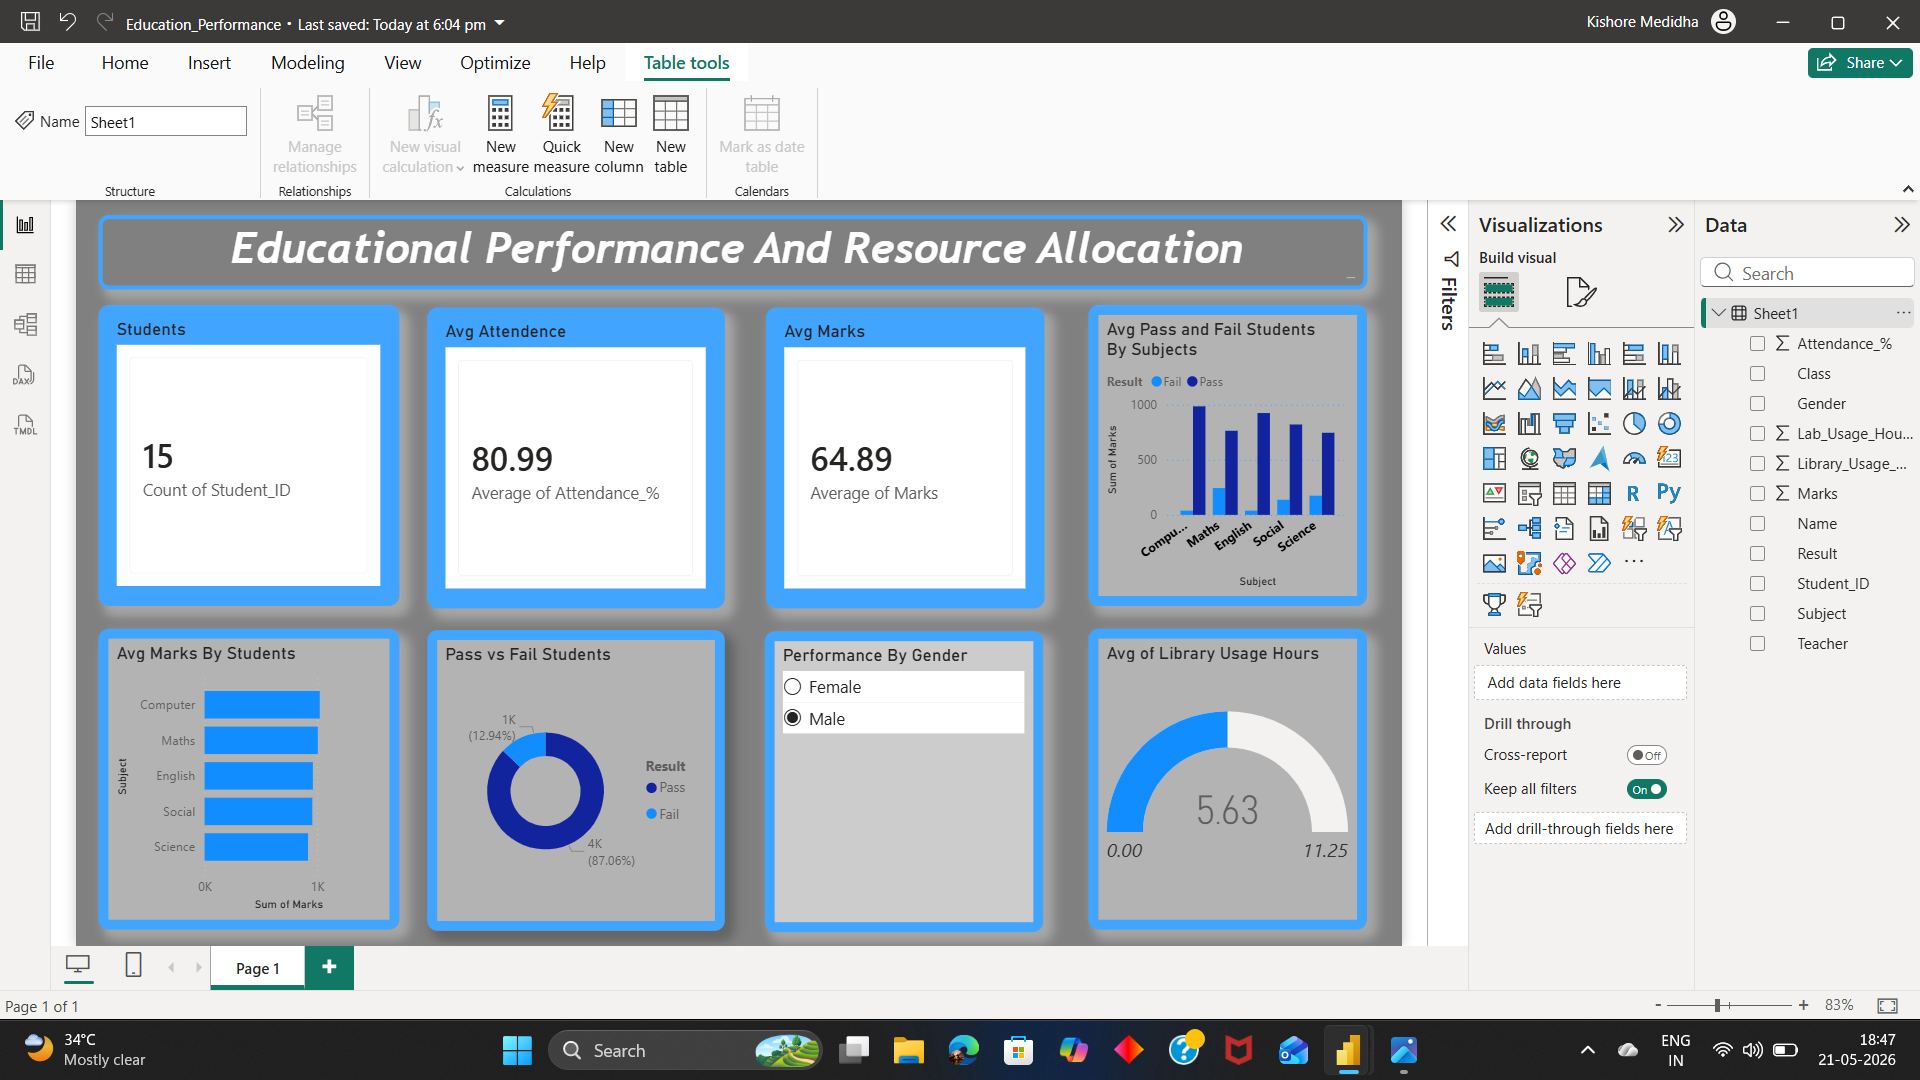

The page's visual inventory and layout, read from the dashboard file:
{"tool":"powerbi","page":{"name":"Page 1","canvas":[1280,720],"ordinal":0},"visuals":[{"type":"cardVisual","title":"Students","fields":{"Data":["Count(Sheet1.Student_ID)"]},"box":[21.7,101.3,290.8,290.8],"z":0},{"type":"cardVisual","title":" Avg Attendence  ","fields":{"Data":["Avg(Sheet1.Attendance_%)"]},"box":[339,103.8,287.1,290.8],"z":1000},{"type":"cardVisual","title":" Avg Marks","fields":{"Data":["Avg(Sheet1.Marks)"]},"box":[666,103.8,269,290.8],"z":2000},{"type":"clusteredBarChart","title":"Avg  Marks By  Students","fields":{"Category":["Sheet1.Subject"],"Y":["Sum(Sheet1.Marks)"]},"box":[21.7,413.8,290.8,290.8],"z":3000},{"type":"donutChart","title":"Pass vs Fail Students","fields":{"Category":["Sheet1.Result"],"Y":["Sum(Sheet1.Marks)"]},"box":[339,415,287.1,290.8],"z":4000},{"type":"lineClusteredColumnComboChart","title":"Avg Pass and Fail Students By Subjects","fields":{"Category":["Sheet1.Subject"],"Y":["Sum(Sheet1.Marks)"],"Series":["Sheet1.Result"]},"box":[977.2,101.3,269,290.8],"z":5000},{"type":"listSlicer","title":" Performance  By Gender","fields":{"Values":["Sheet1.Gender"]},"box":[664.7,416.2,269,290.8],"z":6000},{"type":"gauge","title":"Avg of Library Usage Hours","fields":{"Y":["Avg(Sheet1.Library_Usage_Hours)"]},"box":[977.2,413.8,269,290.8],"z":7000},{"type":"textbox","title":"       Educational Performance And Resource Allocation","box":[21.7,14.5,1224.5,72.4],"z":8000}]}

Visuals, with their boxes on the page's 1280x720 design canvas (x1, y1, x2, y2). These are canvas units, not pixel positions in the 1920x1080 screenshot, which may show the page scaled, cropped or inside an application window:
"Students" cardVisual: (22,101,312,392)
" Avg Attendence  " cardVisual: (339,104,626,395)
" Avg Marks" cardVisual: (666,104,935,395)
"Avg  Marks By  Students" clusteredBarChart: (22,414,312,705)
"Pass vs Fail Students" donutChart: (339,415,626,706)
"Avg Pass and Fail Students By Subjects" lineClusteredColumnComboChart: (977,101,1246,392)
" Performance  By Gender" listSlicer: (665,416,934,707)
"Avg of Library Usage Hours" gauge: (977,414,1246,705)
"       Educational Performance And Resource Allocation" textbox: (22,14,1246,87)
